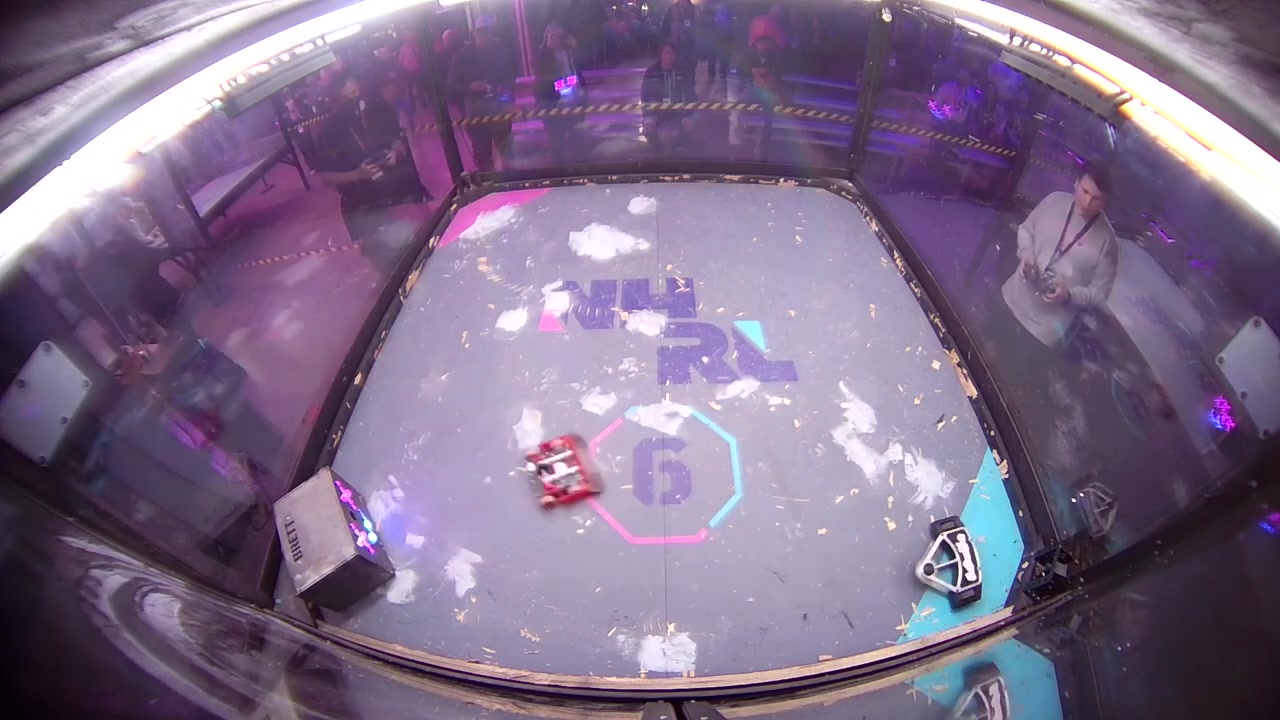combatbot: (914, 513, 985, 611), (526, 433, 603, 512)
housebot: (274, 466, 395, 614)
